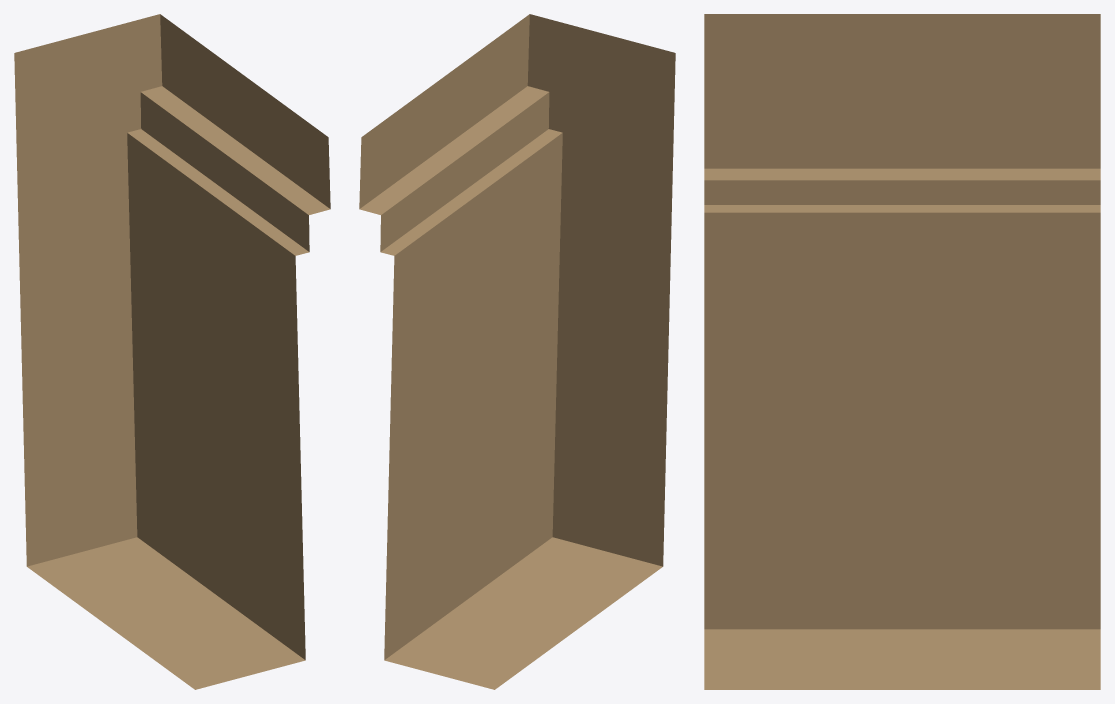
The picture shows the model from 3 angles, left to right: view 1: azimuth 30°, elevation 25°; view 2: azimuth 150°, elevation 25°; view 3: azimuth 270°, elevation 25°; orthographic projection. The views are drawn at different scales.
Visible parts, largest first — view 1: 0_0_1_1_3_2_1_2_1; view 2: 0_0_1_1_3_2_1_2_1; view 3: 0_0_1_1_3_2_1_2_1.
Boxes of the visible parts, x1=… form: 0_0_1_1_3_2_1_2_1: x1=14, y1=14, x2=330, y2=689; 0_0_1_1_3_2_1_2_1: x1=359, y1=14, x2=675, y2=689; 0_0_1_1_3_2_1_2_1: x1=704, y1=14, x2=1100, y2=689.
Bounding box in the file's own units: 13.69 × 46 × 27.
